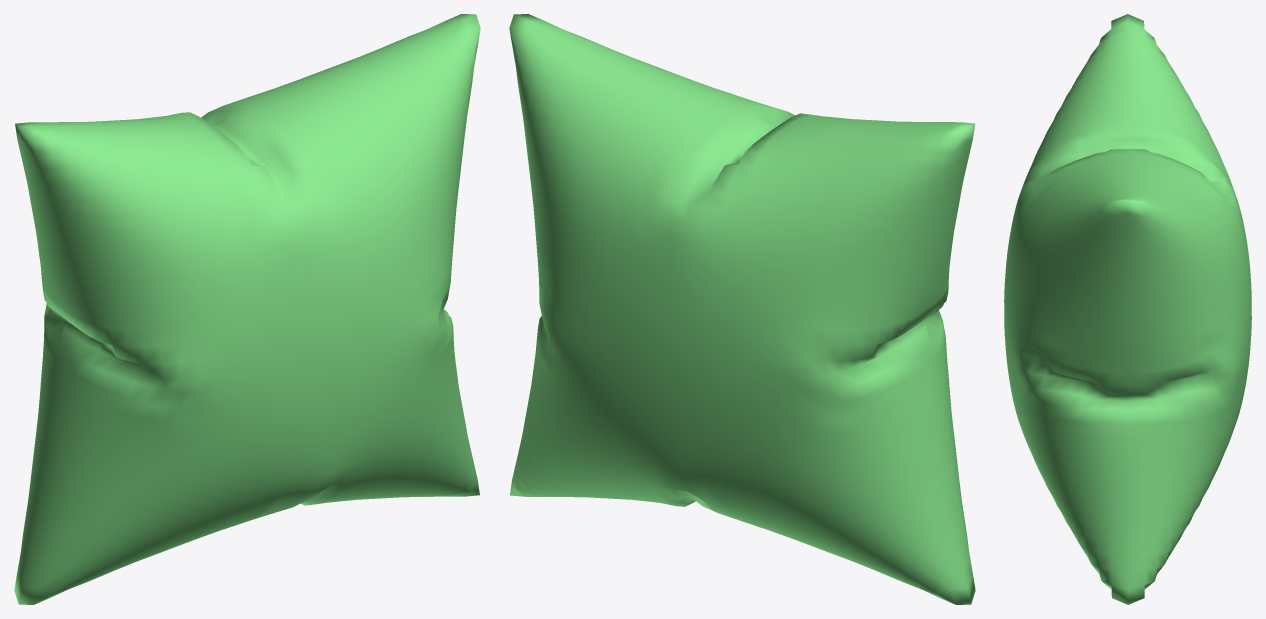
File: cushion 1.fbx
The picture shows the model from 3 angles, left to right: view 1: azimuth 30°, elevation 25°; view 2: azimuth 150°, elevation 25°; view 3: azimuth 270°, elevation 25°; orthographic projection. The views are drawn at different scales.
Visible parts, largest first — view 1: Cushion; view 2: Cushion; view 3: Cushion.
Part boxes in pixels (bbox=[...]): Cushion: bbox=[14, 14, 480, 604]; Cushion: bbox=[509, 14, 975, 604]; Cushion: bbox=[1004, 14, 1251, 604].
Bounding box in the file's own units: 45 × 45 × 25.
